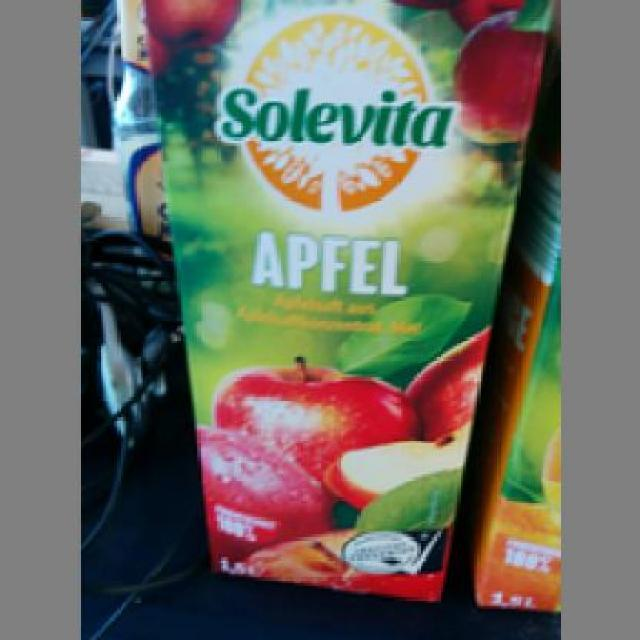Juice: (140, 0, 546, 603)
